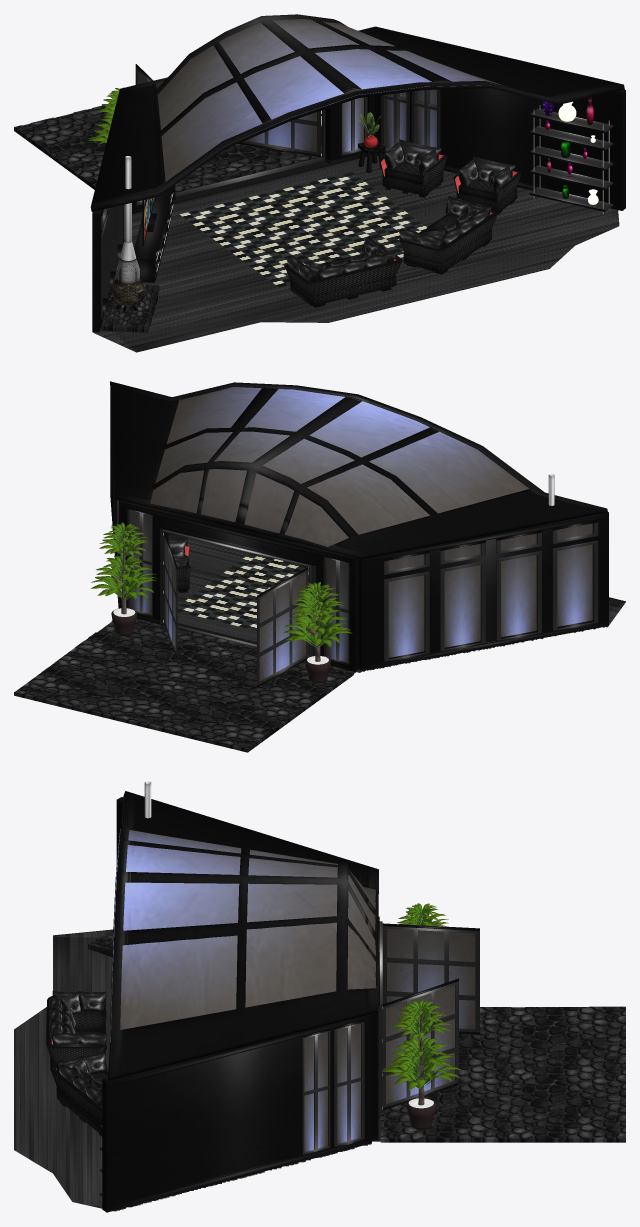
3 views of the same model, one above another, from view 1: azimuth 30°, elevation 25°; view 2: azimuth 150°, elevation 25°; view 3: azimuth 270°, elevation 25° (orthographic). The views are drawn at different scales.
Visible parts, largest first — view 1: FLOOR1-00_2, ROOF1-0_10, GLASS1-0_11, WALL00.001_1, MAT-0_28, FLOOR2-0_5, COUCH1-0_6, WINDOW-FRAME00.001_12, PILLOW1-0_9, SHELF1-0_16, 1GLASS2-0_17, FIRE00_4 (+7 smaller); view 2: GLASS1-0_11, ROOF1-0_10, FLOOR2-0_5, 1GLASS2-0_17, WALL00.001_1, WINDOW-FRAME00.001_12, 1LEAF-0_24, MAT-0_28, FLOOR1-00_2, 1POT-0_18, COUCH1-0_6; view 3: GLASS1-0_11, WALL00.001_1, ROOF1-0_10, FLOOR2-0_5, FLOOR1-00_2, 1GLASS2-0_17, WINDOW-FRAME00.001_12, 1LEAF-0_24, PILLOW1-0_9, COUCH1-0_6, CUSHION1-0_8, SEAT1-0_7 (+1 smaller).
Boxes of the visible parts, x1,y1,x2,y2 form: FLOOR1-00_2: (93,155,619,352); ROOF1-0_10: (90,14,624,211); GLASS1-0_11: (155,19,505,193); WALL00.001_1: (92,88,625,332); MAT-0_28: (180,172,426,287); FLOOR2-0_5: (14,104,321,332); COUCH1-0_6: (284,153,521,307); WINDOW-FRAME00.001_12: (101,64,440,321); PILLOW1-0_9: (286,139,515,280); SHELF1-0_16: (529,108,613,211); 1GLASS2-0_17: (137,71,436,202); FIRE00_4: (111,156,145,311); GLASS1-0_11: (150,387,529,546); ROOF1-0_10: (110,381,607,559); FLOOR2-0_5: (14,618,353,752); 1GLASS2-0_17: (131,510,592,681); WALL00.001_1: (110,393,608,671); WINDOW-FRAME00.001_12: (117,500,598,687); 1LEAF-0_24: (91,522,352,647); MAT-0_28: (177,553,308,643); FLOOR1-00_2: (177,538,625,673); 1POT-0_18: (111,608,330,683); COUCH1-0_6: (168,533,190,592); GLASS1-0_11: (110,829,376,1042); WALL00.001_1: (102,797,378,1212); ROOF1-0_10: (107,791,378,1080); FLOOR2-0_5: (88,929,625,1142); FLOOR1-00_2: (14,929,380,1211); 1GLASS2-0_17: (304,929,475,1151); WINDOW-FRAME00.001_12: (302,916,479,1154); 1LEAF-0_24: (381,903,461,1090); PILLOW1-0_9: (49,991,107,1105); COUCH1-0_6: (46,996,104,1136); CUSHION1-0_8: (60,994,102,1092); SEAT1-0_7: (74,1010,108,1083).
Size of the model in its own units: 43.59 by 14.08 by 39.57.
Materials: 32 (27 with a texture image).
